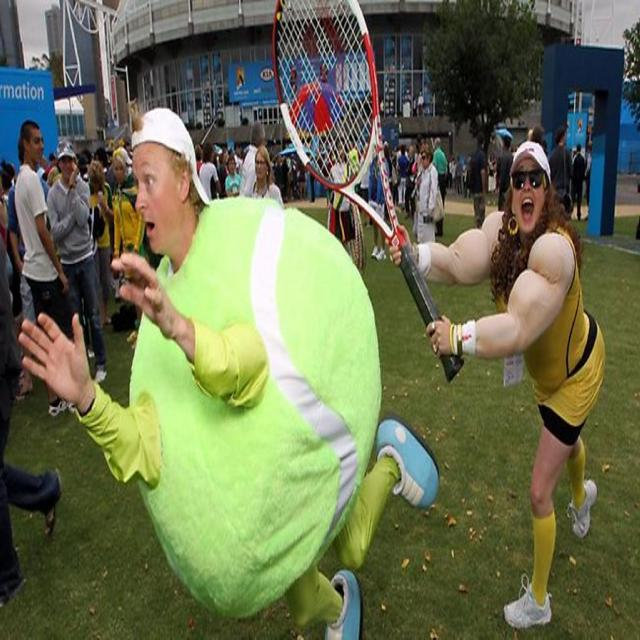nomask: (132, 142, 178, 252), (513, 161, 543, 232), (28, 130, 43, 162), (60, 154, 74, 177), (255, 152, 265, 179), (113, 160, 123, 182), (421, 151, 429, 168), (228, 160, 233, 173)
